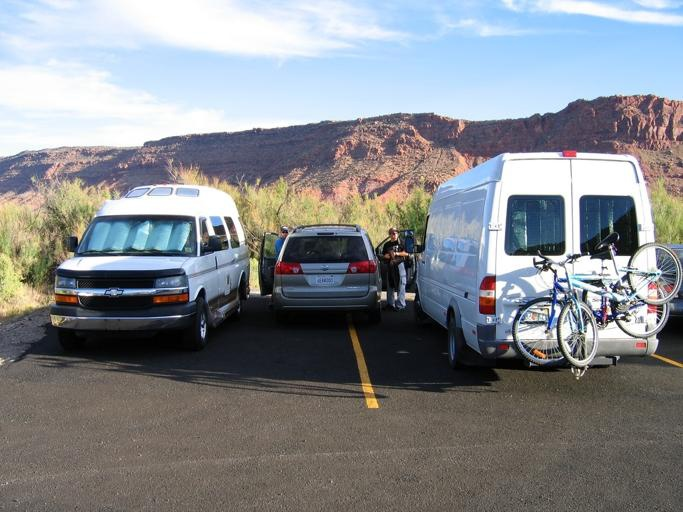non-vehicle: (536, 231, 683, 368), (512, 255, 669, 365)
